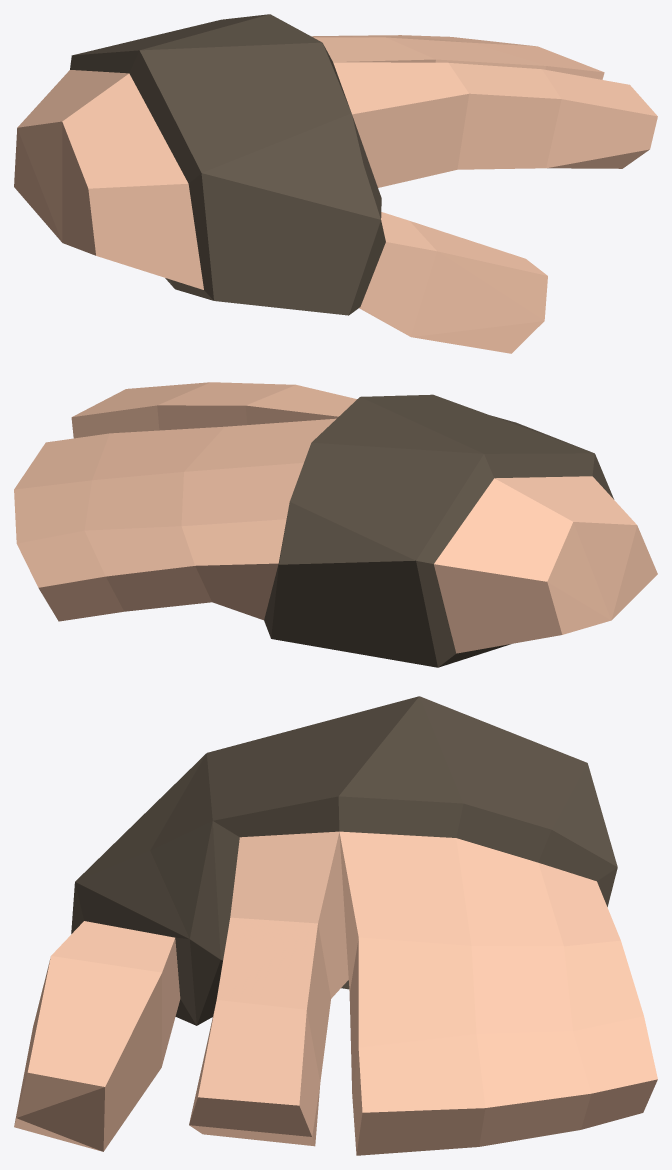
The model's file is Chr_HandLeft_Female_15_Static.fbx.
3 views of the same model, one above another, from view 1: azimuth 30°, elevation 25°; view 2: azimuth 150°, elevation 25°; view 3: azimuth 270°, elevation 25° (orthographic). The views are drawn at different scales.
Parts seen in each view (by area): view 1: Chr_HandLeft_Female_15_Static; view 2: Chr_HandLeft_Female_15_Static; view 3: Chr_HandLeft_Female_15_Static.
Boxes of the visible parts, x1,y1,x2,y2 form: Chr_HandLeft_Female_15_Static: (14, 14, 657, 353); Chr_HandLeft_Female_15_Static: (14, 382, 657, 667); Chr_HandLeft_Female_15_Static: (14, 696, 657, 1155).
Bounding box in the file's own units: 0.2335 × 0.1036 × 0.188.
